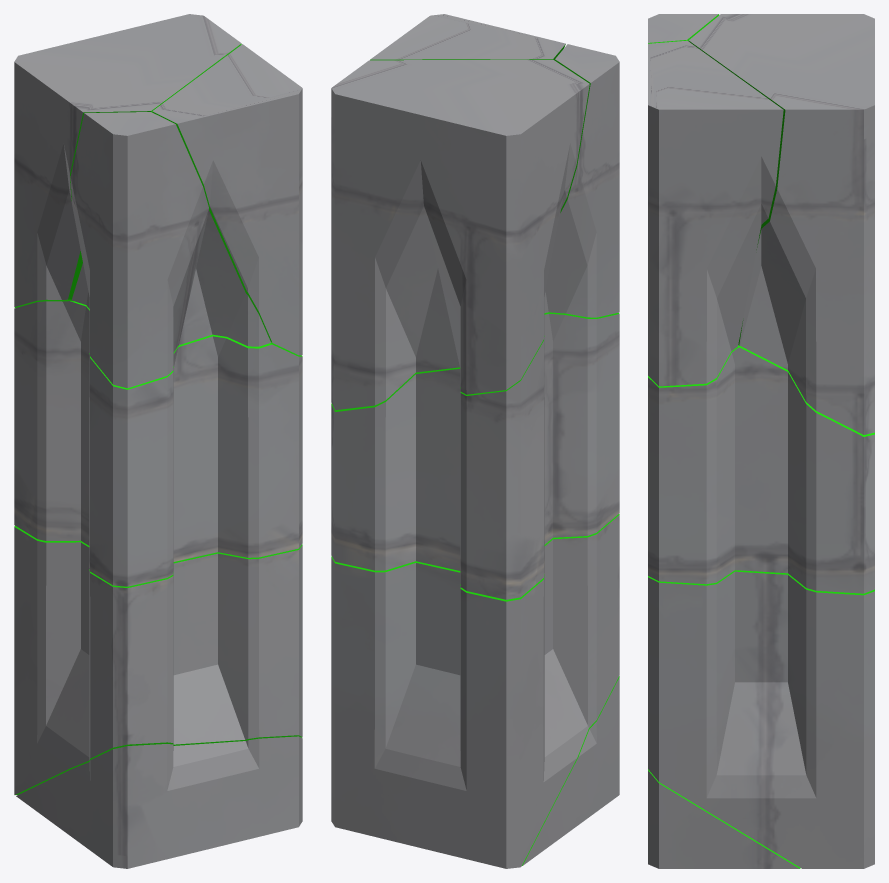
Rendered from SM_Column_Var1_Broken.fbx.
3 renders of one model, left to right at view 1: azimuth 30°, elevation 25°; view 2: azimuth 150°, elevation 25°; view 3: azimuth 270°, elevation 25°, orthographic. The views are drawn at different scales.
Parts seen in each view (by area): view 1: SM_Column_Var1_Broken_01, SM_Column_Var1_Broken_02, SM_Column_Var1_Broken_04, SM_Column_Var1_Broken_05, SM_Column_Var1_Broken_03, SM_Column_Var1_Broken; view 2: SM_Column_Var1_Broken_05, SM_Column_Var1_Broken_02, SM_Column_Var1_Broken_01, SM_Column_Var1_Broken_04, SM_Column_Var1_Broken_03, SM_Column_Var1_Broken; view 3: SM_Column_Var1_Broken_02, SM_Column_Var1_Broken_05, SM_Column_Var1_Broken_01, SM_Column_Var1_Broken, SM_Column_Var1_Broken_03, SM_Column_Var1_Broken_04.
Part boxes in pixels (x1,y1,x2,y2): SM_Column_Var1_Broken_01: [14, 301, 302, 586]; SM_Column_Var1_Broken_02: [14, 525, 302, 794]; SM_Column_Var1_Broken_04: [70, 112, 270, 388]; SM_Column_Var1_Broken_05: [14, 14, 241, 307]; SM_Column_Var1_Broken_03: [16, 736, 302, 868]; SM_Column_Var1_Broken: [152, 44, 302, 355]; SM_Column_Var1_Broken_05: [331, 59, 589, 410]; SM_Column_Var1_Broken_02: [331, 514, 619, 868]; SM_Column_Var1_Broken_01: [331, 312, 619, 599]; SM_Column_Var1_Broken_04: [544, 44, 619, 317]; SM_Column_Var1_Broken_03: [522, 676, 619, 865]; SM_Column_Var1_Broken: [370, 14, 565, 60]; SM_Column_Var1_Broken_02: [648, 570, 874, 868]; SM_Column_Var1_Broken_05: [688, 14, 874, 434]; SM_Column_Var1_Broken_01: [648, 345, 874, 593]; SM_Column_Var1_Broken: [648, 40, 783, 386]; SM_Column_Var1_Broken_03: [648, 769, 800, 868]; SM_Column_Var1_Broken_04: [648, 14, 719, 43].
Size of the model in its own units: 0.2707 by 1 by 0.2707.
